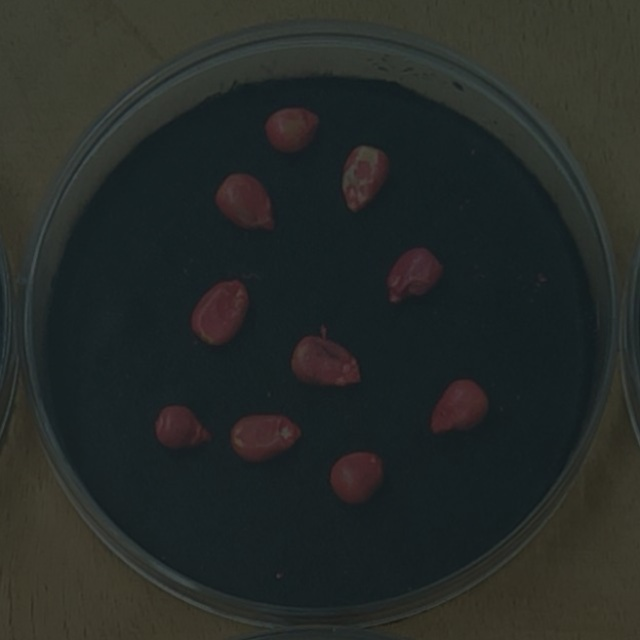Zea mays: (184, 273, 255, 355), (284, 328, 369, 395), (223, 405, 308, 470), (209, 166, 282, 238), (378, 238, 450, 309), (425, 372, 494, 443), (336, 138, 396, 218), (323, 446, 392, 512), (147, 398, 218, 457), (258, 101, 325, 159)
